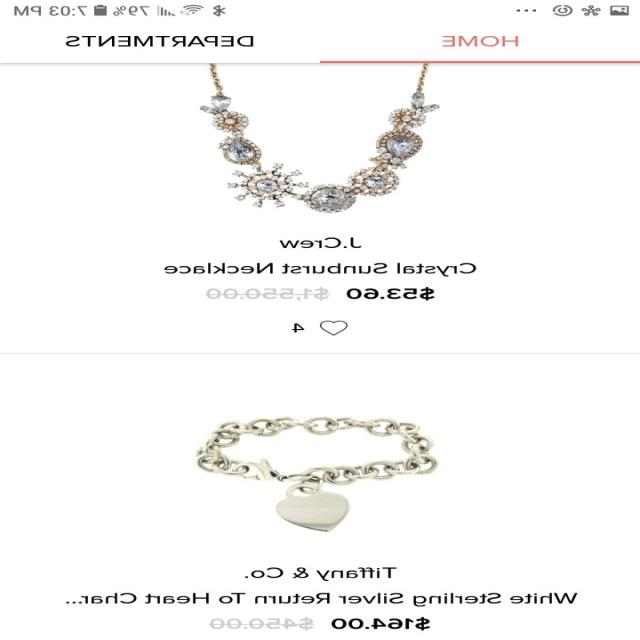Icon: (320, 320, 348, 336)
Image: (200, 63, 440, 213), (194, 416, 438, 532)
Text: (66, 592, 578, 606), (165, 262, 478, 276), (205, 287, 435, 301), (209, 616, 431, 630), (245, 566, 398, 581), (66, 36, 256, 48), (279, 236, 363, 248), (442, 36, 520, 48), (292, 323, 306, 333)
